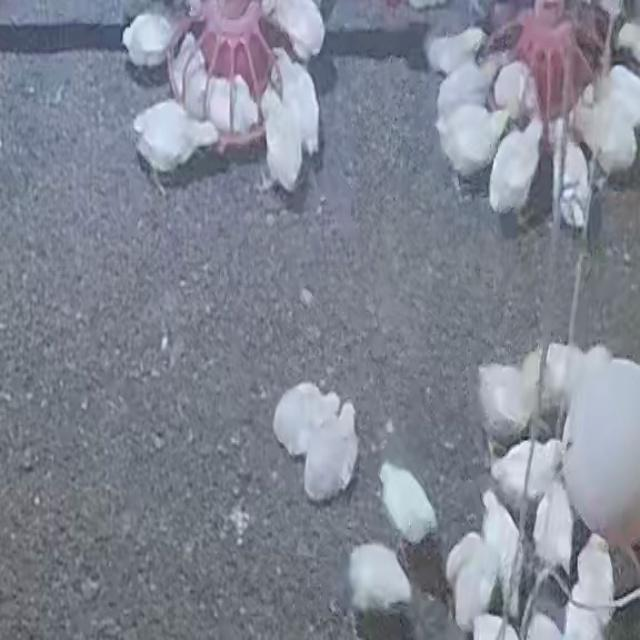chicken: (132, 98, 217, 181), (487, 120, 545, 218), (438, 103, 508, 184), (533, 341, 608, 416), (303, 400, 359, 500), (488, 437, 562, 512), (270, 384, 344, 457), (477, 362, 537, 447), (278, 43, 324, 153), (568, 105, 640, 175), (378, 461, 438, 543), (347, 542, 413, 614), (567, 534, 616, 620), (446, 531, 490, 626), (532, 478, 576, 572), (478, 489, 520, 587), (199, 73, 262, 138), (261, 87, 299, 194), (261, 1, 325, 64), (166, 32, 208, 121), (434, 60, 496, 120), (555, 140, 593, 229), (120, 12, 178, 69), (424, 26, 486, 77), (492, 60, 530, 120)
